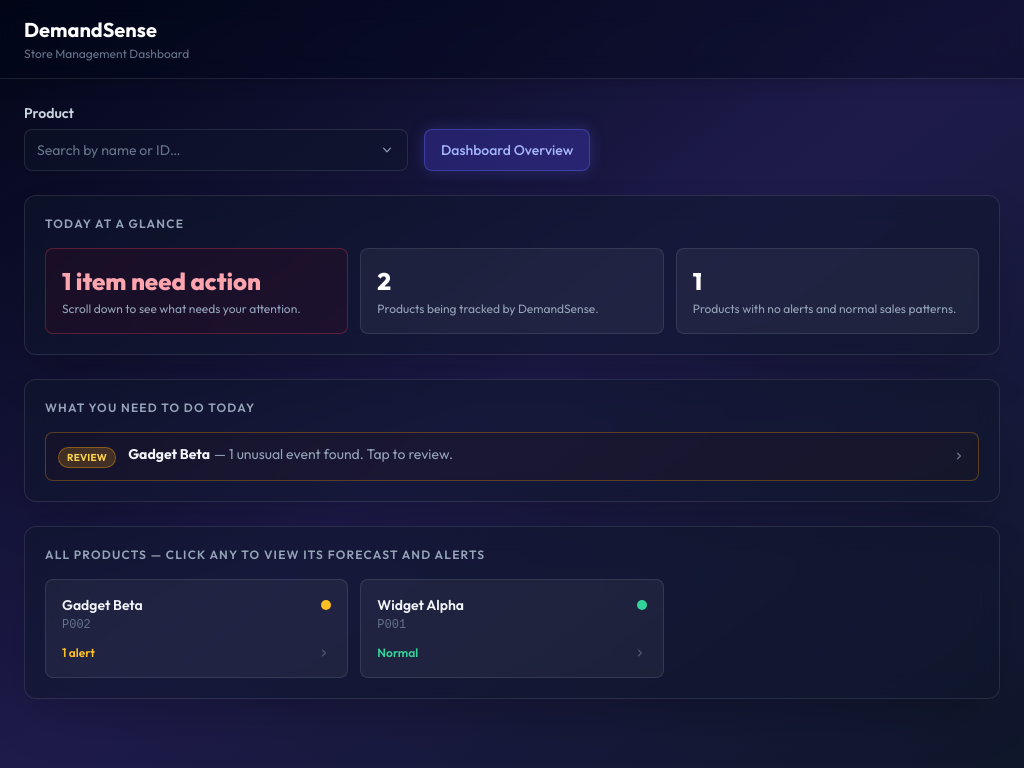
App › retains prior product data when a new request fails
Click to select the product
Click the text "Widget Alpha" at (421, 605), box x1=377 y1=596 x2=464 y2=614
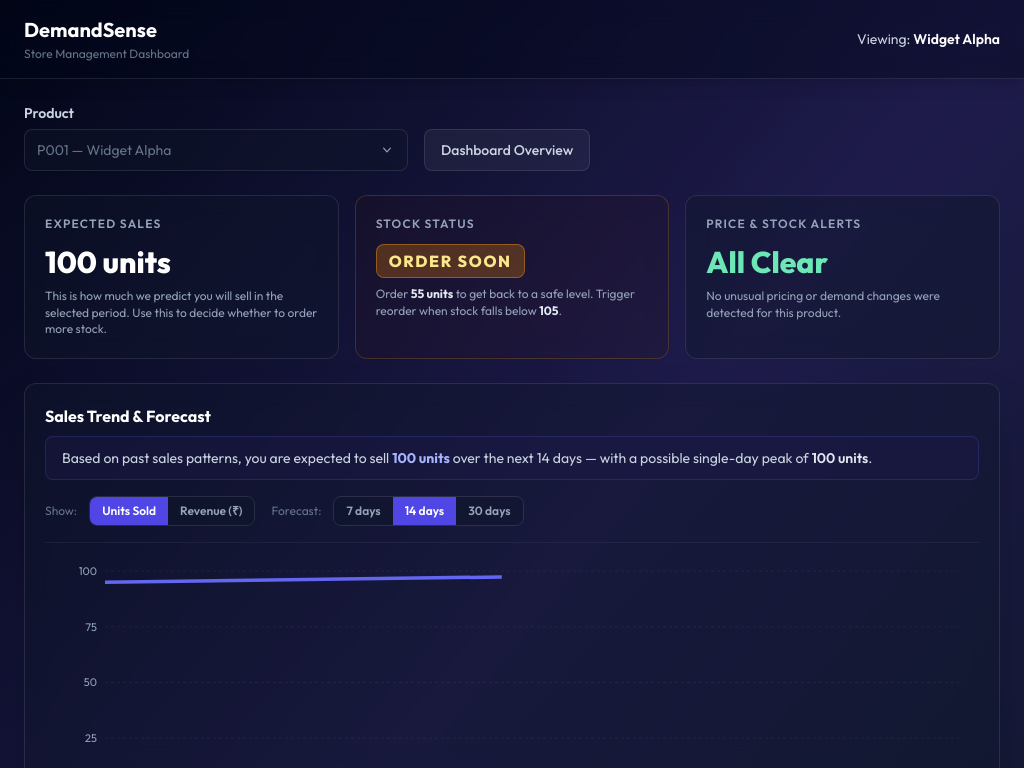
Check: the heading "DemandSense" is shown, box x1=24 y1=17 x2=157 y2=42
Check: the text "100 units" next to "ORDER SOON" is shown, box x1=45 y1=243 x2=171 y2=281
